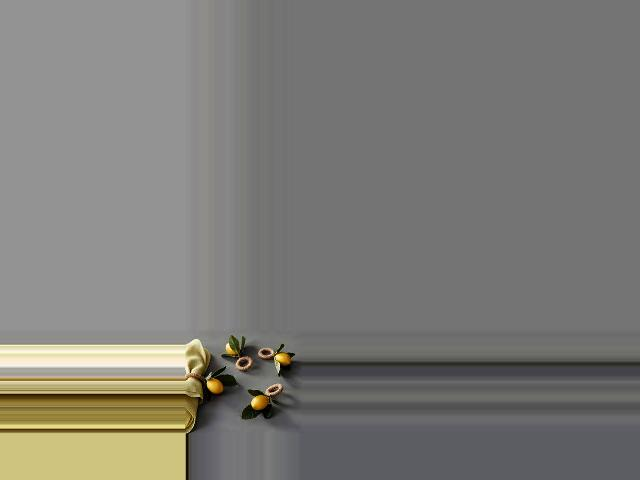lemon: (271, 352, 295, 370)
